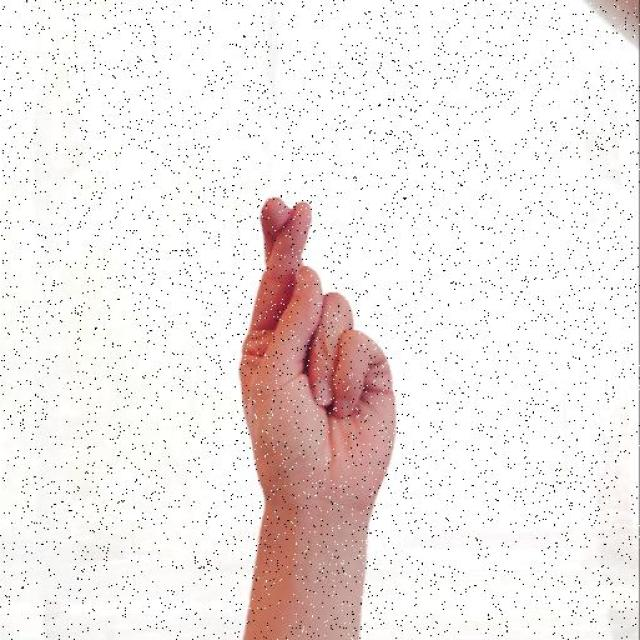R: (234, 196, 404, 516)
